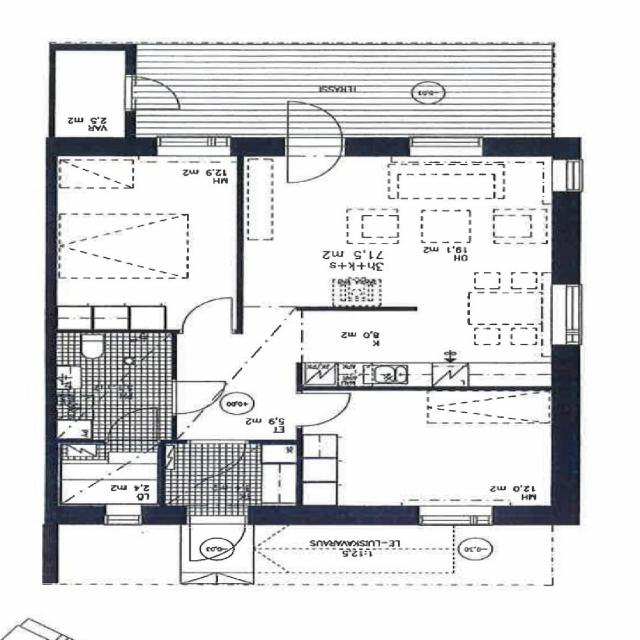door: (288, 100, 342, 156), (190, 506, 244, 561), (288, 137, 342, 192), (190, 440, 244, 480), (125, 77, 184, 110), (182, 296, 232, 333), (108, 408, 156, 444), (171, 381, 225, 413), (296, 393, 349, 425)
